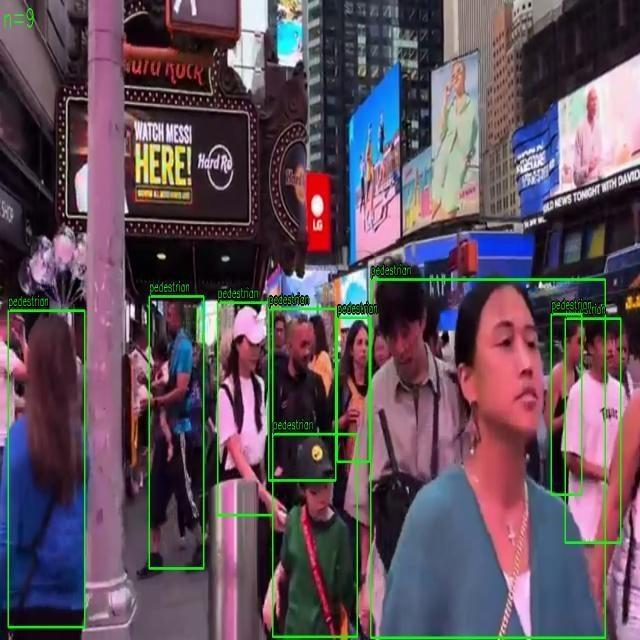person: (370, 279, 606, 638), (8, 310, 85, 628), (272, 433, 358, 638), (149, 296, 204, 569), (565, 318, 621, 543), (217, 302, 273, 516), (268, 308, 336, 481), (551, 314, 582, 496), (336, 318, 369, 462)
